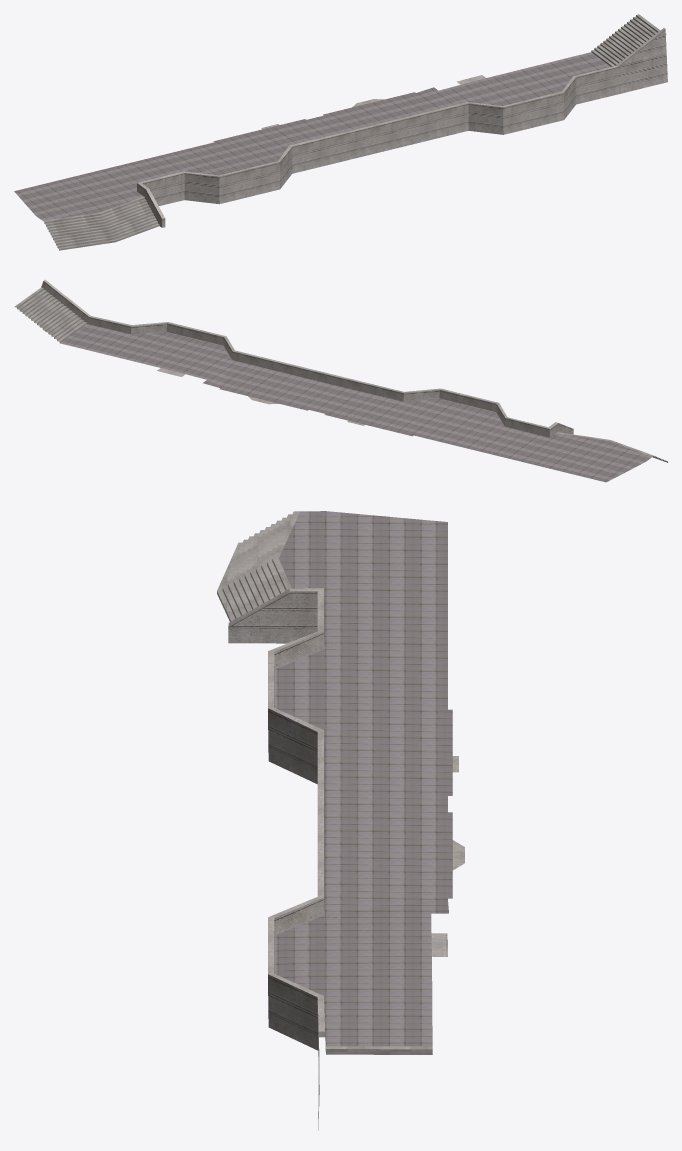
The model's file is laalley2_lan2.obj.
3 views of the same model, one above another, from view 1: azimuth 30°, elevation 25°; view 2: azimuth 150°, elevation 25°; view 3: azimuth 270°, elevation 25° (orthographic). The views are drawn at different scales.
Visible parts, largest first — view 1: LAalley2_LAn2; view 2: LAalley2_LAn2; view 3: LAalley2_LAn2.
Part boxes in pixels (left/top/right/bottom): LAalley2_LAn2: left=14, top=14, right=667, bottom=250; LAalley2_LAn2: left=14, top=279, right=667, bottom=482; LAalley2_LAn2: left=217, top=511, right=464, bottom=1130.
Size of the model in its own units: 88.16 by 7.22 by 15.62.
